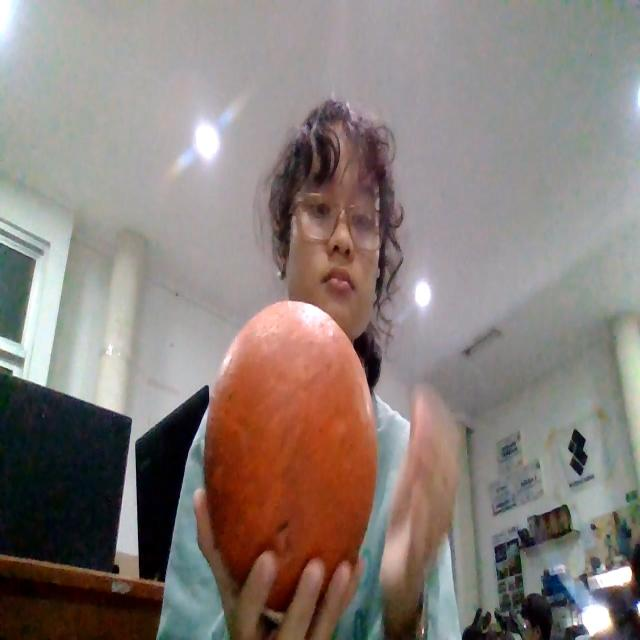ball: (203, 298, 378, 612)
